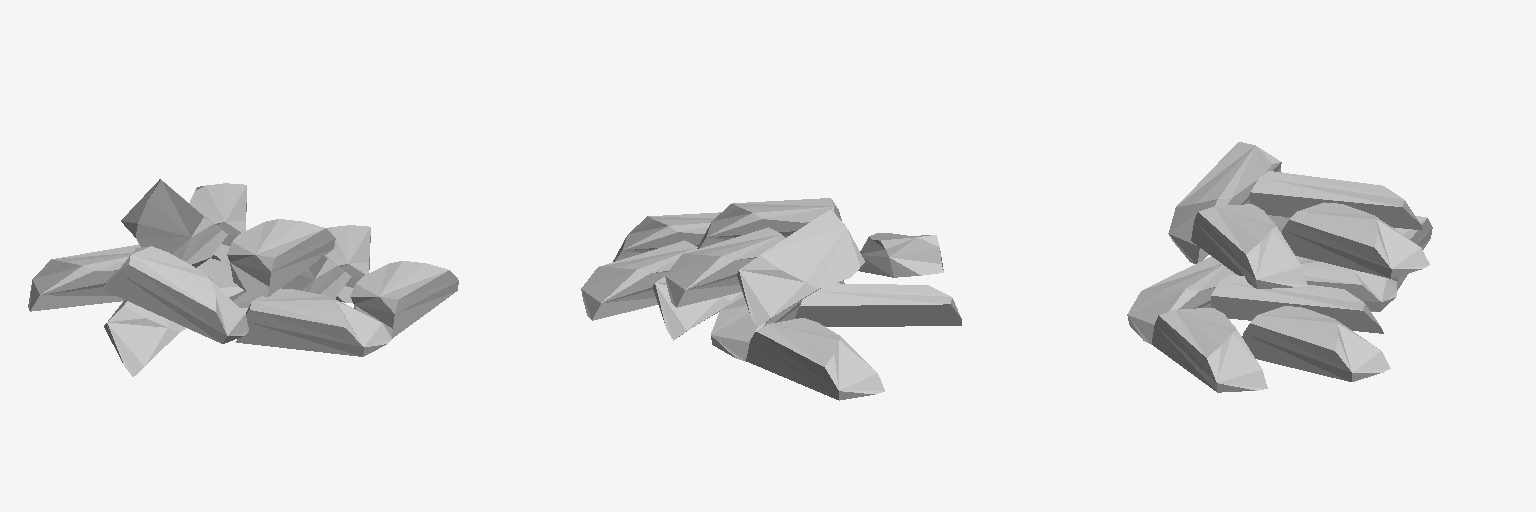
Rendered from chicken_chop_3.obj.
3 renders of one model, left to right at view 1: azimuth 30°, elevation 25°; view 2: azimuth 150°, elevation 25°; view 3: azimuth 270°, elevation 25°, orthographic.
Visible parts, largest first — view 1: chops2 Chicken pCube65, chops2 Chicken pCube72, chops2 Chicken pCube64, chops2 Chicken pCube71, chops2 Chicken pCube63, chops2 Chicken pCube74, chops2 Chicken pCube73, pCube62 chops2 Chicken, chops2 Chicken pCube69, chops2 Chicken pCube70, chops2 Chicken pCube75; view 2: chops2 Chicken pCube63, chops2 Chicken pCube74, chops2 Chicken pCube73, pCube62 chops2 Chicken, chops2 Chicken pCube69, chops2 Chicken pCube64, chops2 Chicken pCube65, chops2 Chicken pCube71, chops2 Chicken pCube75, chops2 Chicken pCube70; view 3: pCube62 chops2 Chicken, chops2 Chicken pCube69, chops2 Chicken pCube71, chops2 Chicken pCube64, chops2 Chicken pCube63, chops2 Chicken pCube70, chops2 Chicken pCube65, chops2 Chicken pCube72, chops2 Chicken pCube75, chops2 Chicken pCube74.
Boxes of the visible parts, box(x1,y1,x2,y2) form: chops2 Chicken pCube65: box(103, 246, 248, 343); chops2 Chicken pCube72: box(236, 288, 391, 356); chops2 Chicken pCube64: box(227, 219, 335, 296); chops2 Chicken pCube71: box(350, 261, 458, 338); chops2 Chicken pCube63: box(121, 179, 227, 267); chops2 Chicken pCube74: box(28, 244, 140, 311); chops2 Chicken pCube73: box(104, 300, 185, 376); pCube62 chops2 Chicken: box(189, 183, 246, 260); chops2 Chicken pCube69: box(325, 225, 370, 302); chops2 Chicken pCube70: box(281, 254, 351, 298); chops2 Chicken pCube75: box(197, 258, 259, 312); chops2 Chicken pCube63: box(737, 209, 864, 327); chops2 Chicken pCube74: box(746, 318, 884, 400); chops2 Chicken pCube73: box(795, 283, 961, 326); pCube62 chops2 Chicken: box(665, 227, 784, 307); chops2 Chicken pCube69: box(581, 240, 697, 320); chops2 Chicken pCube64: box(697, 198, 841, 248); chops2 Chicken pCube65: box(858, 233, 943, 277); chops2 Chicken pCube71: box(613, 212, 721, 261); chops2 Chicken pCube75: box(711, 292, 802, 361); chops2 Chicken pCube70: box(653, 276, 740, 340); pCube62 chops2 Chicken: box(1282, 202, 1429, 278); chops2 Chicken pCube69: box(1242, 306, 1390, 381); chops2 Chicken pCube71: box(1152, 308, 1267, 392); chops2 Chicken pCube64: box(1191, 204, 1306, 288); chops2 Chicken pCube63: box(1250, 171, 1422, 229); chops2 Chicken pCube70: box(1211, 274, 1383, 333); chops2 Chicken pCube65: box(1168, 142, 1281, 263); chops2 Chicken pCube72: box(1127, 256, 1236, 344); chops2 Chicken pCube75: box(1296, 256, 1396, 311); chops2 Chicken pCube74: box(1388, 216, 1432, 290).
Bounding box in the file's own units: 0.5693 × 0.181 × 0.4384.